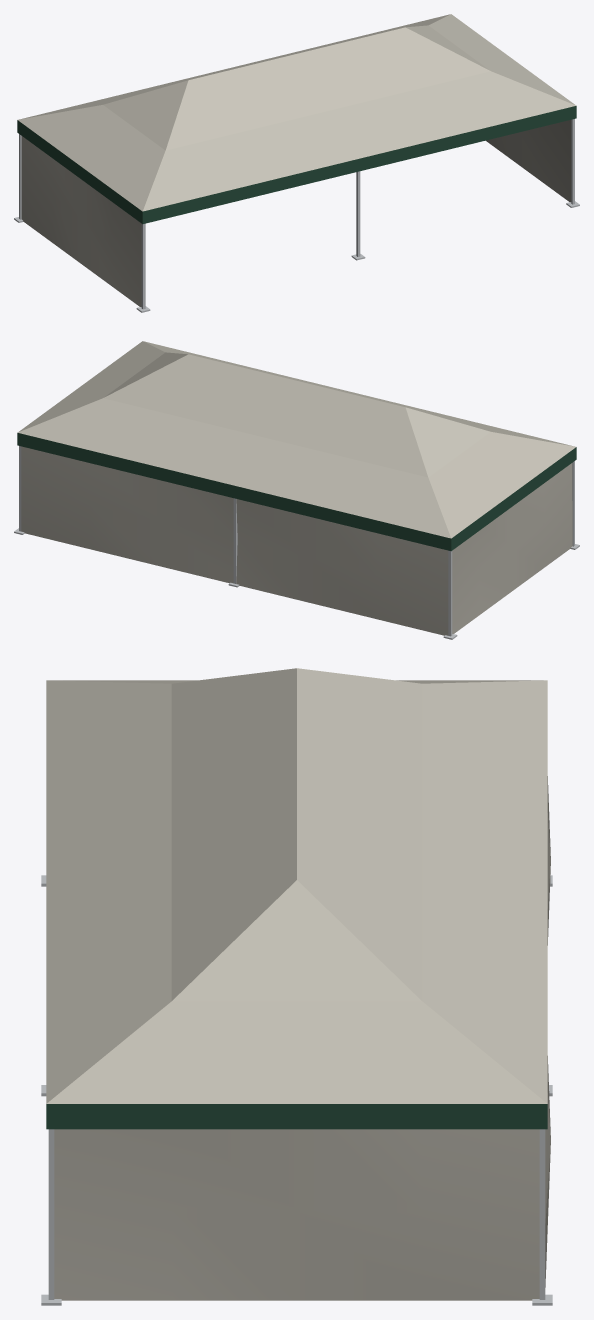
File: tent_closed.glb
3 renders of one model, top to bottom at view 1: azimuth 30°, elevation 25°; view 2: azimuth 150°, elevation 25°; view 3: azimuth 270°, elevation 25°, orthographic. The views are drawn at different scales.
Visible parts, largest first — view 1: tent_closed; view 2: tent_closed; view 3: tent_closed.
Part boxes in pixels (x1,y1,x2,y2): tent_closed: [14, 14, 579, 312]; tent_closed: [14, 341, 579, 639]; tent_closed: [41, 668, 552, 1305].
Bounding box in the file's own units: 10.1 × 3.5 × 5.1.
